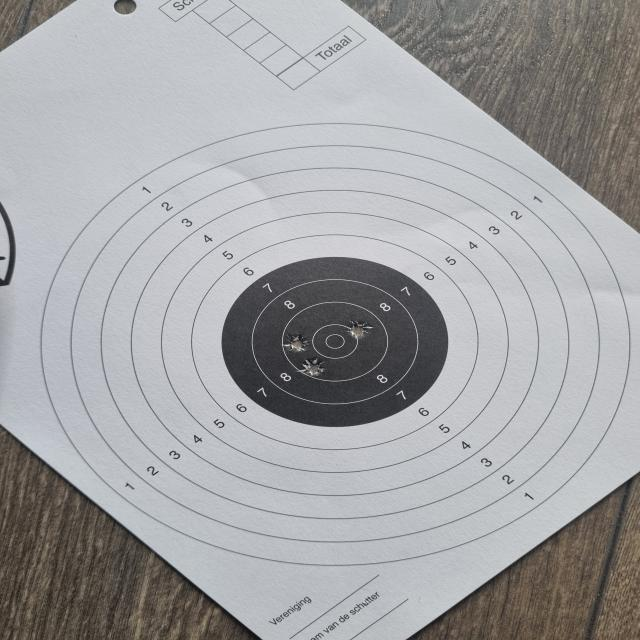10: (346, 321, 374, 339)
9: (297, 357, 326, 376), (283, 333, 309, 353)
Target: (39, 121, 635, 566)
black_contour: (219, 255, 452, 428)
